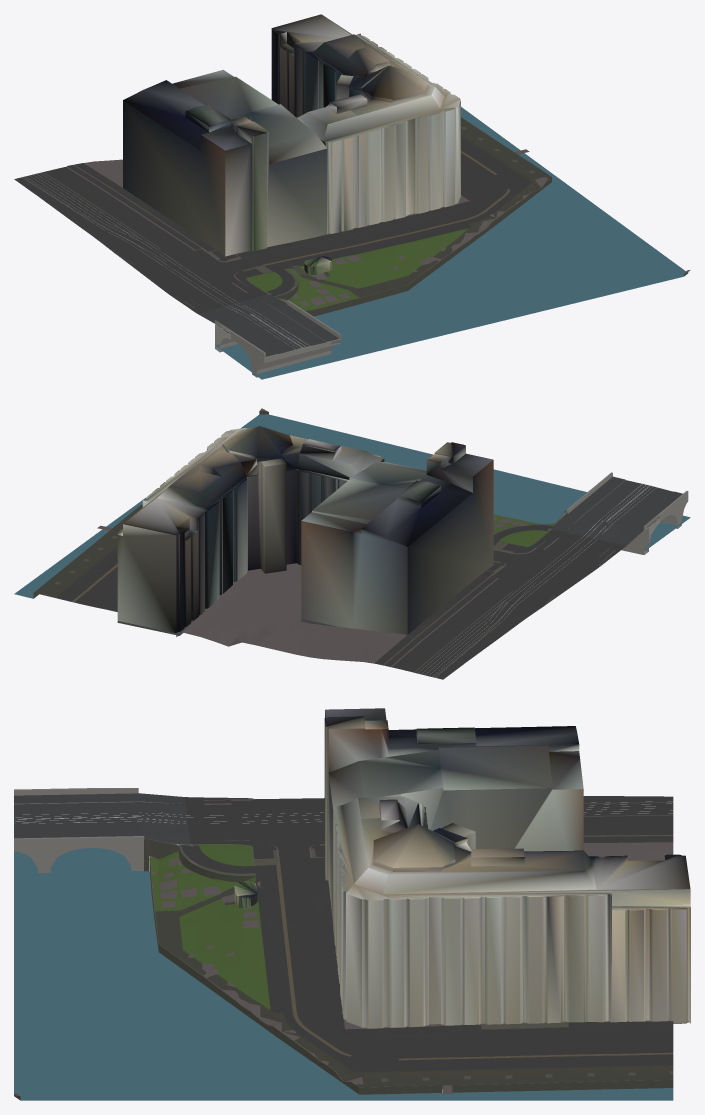
3 renders of one model, top to bottom at view 1: azimuth 30°, elevation 25°; view 2: azimuth 150°, elevation 25°; view 3: azimuth 270°, elevation 25°, orthographic. The views are drawn at different scales.
Parts seen in each view (by area): view 1: c_m01_m07; view 2: c_m01_m07; view 3: c_m01_m07, c_m01_m07_bridge_clipped_0.
Boxes of the visible parts, x1,y1,x2,y2 form: c_m01_m07: (14,14,690,379); c_m01_m07: (14,408,690,679); c_m01_m07: (14,708,690,1100); c_m01_m07_bridge_clipped_0: (148,797,199,847).
Bounding box in the file's own units: 128 × 39.38 × 131.
